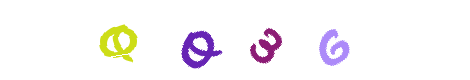3: (196, 0, 276, 80)
G: (272, 0, 352, 80)
Q: (78, 0, 158, 80), (186, 0, 266, 80)
